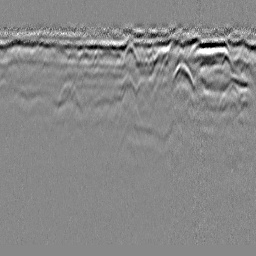cavity: (118, 70, 137, 99)
